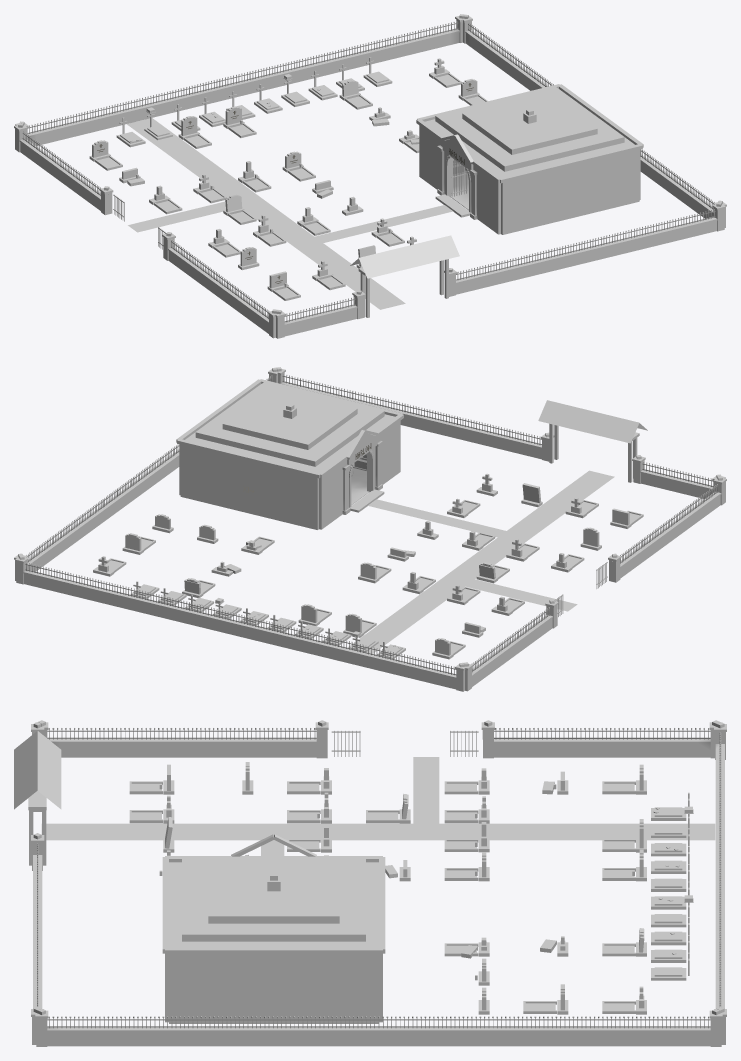
The model's file is graveyard.glb.
3 views of the same model, one above another, from view 1: azimuth 30°, elevation 25°; view 2: azimuth 150°, elevation 25°; view 3: azimuth 270°, elevation 25° (orthographic). The views are drawn at different scales.
Visible parts, largest first — view 1: graveyard; view 2: graveyard; view 3: graveyard.
Boxes of the visible parts, bbox=[...] form: graveyard: bbox=[14, 14, 726, 338]; graveyard: bbox=[14, 367, 726, 691]; graveyard: bbox=[14, 720, 726, 1046].
Bounding box in the file's own units: 26.5 × 4.35 × 27.15.
Materials: 2 (1 with a texture image).
